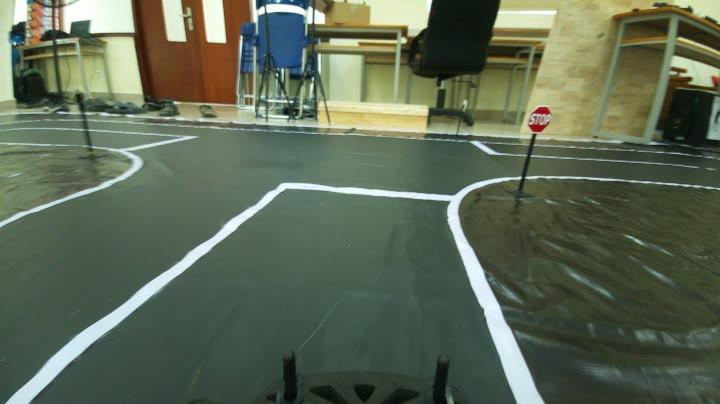stop: (520, 100, 558, 136)
